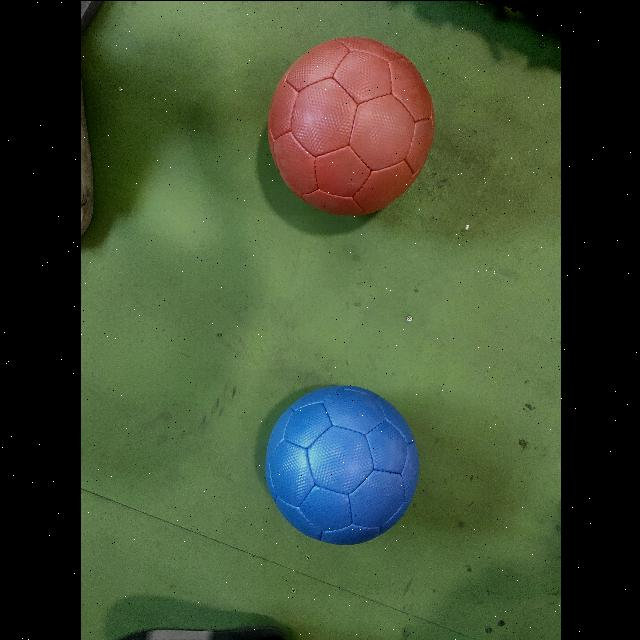B: (264, 385, 418, 544)
R: (267, 37, 434, 214)
